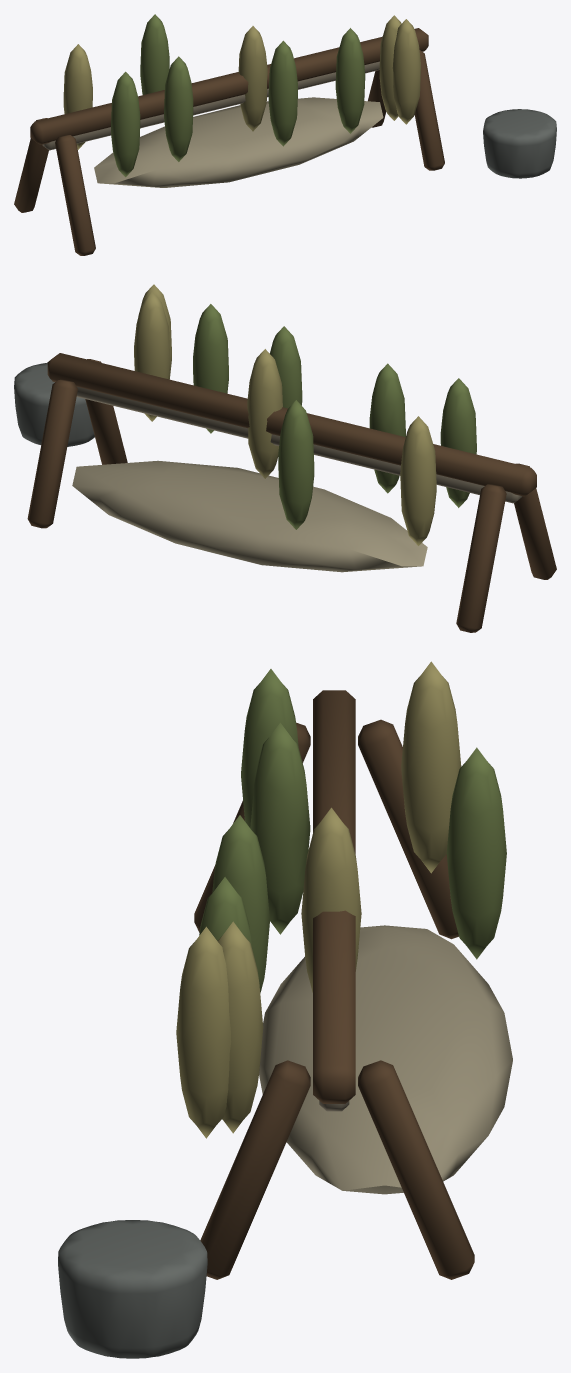
The model's file is fish_rack_c.glb.
3 views of the same model, one above another, from view 1: azimuth 30°, elevation 25°; view 2: azimuth 150°, elevation 25°; view 3: azimuth 270°, elevation 25° (orthographic). The views are drawn at different scales.
Visible parts, largest first — view 1: Surface; view 2: Surface; view 3: Surface.
Part boxes in pixels (box(x1,y1,x2,y2)): Surface: box(14, 14, 556, 255); Surface: box(14, 284, 556, 632); Surface: box(58, 661, 512, 1358).
Size of the model in its own units: 4.29 by 1.4 by 1.81.
